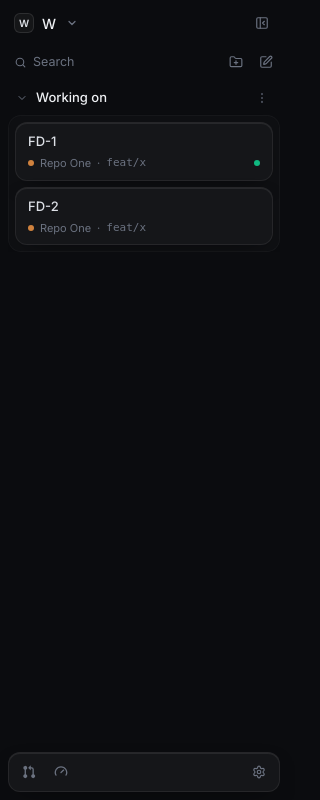
Test: Sidebar tree › Sidebar space rail › the dots live in the workspace popover, not in a row of their own
Click the button named "Switch workspace, current: W": [46, 23] box [8,7,84,39]
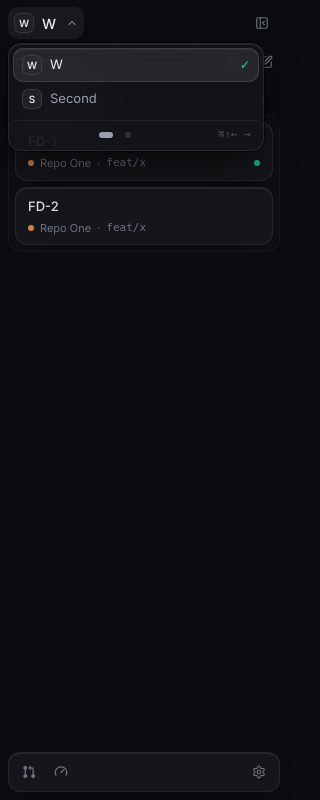
Expected: the button named "Open settings" is shown, [245,758,273,786]
Expected: the element with test id "space-dots-row" is shown, [13,120,259,146]
Expected: the button named "Switch to Second" is shown, [120,127,136,143]
